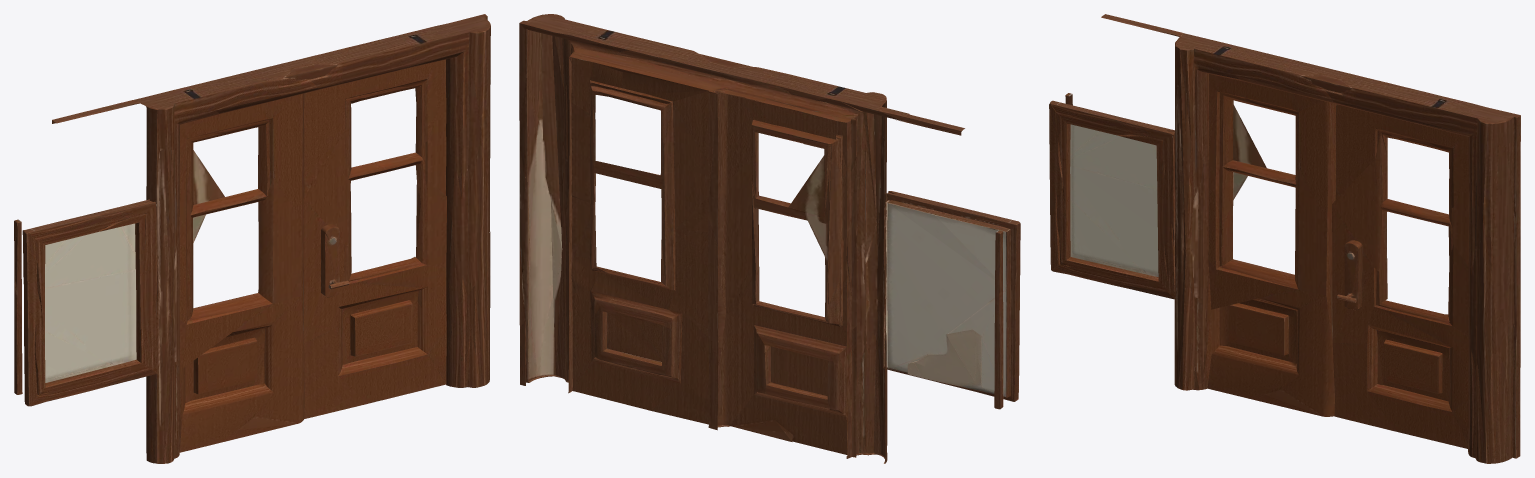
Rendered from hall-entry.glb.
The picture shows the model from 3 angles, left to right: view 1: azimuth 30°, elevation 25°; view 2: azimuth 150°, elevation 25°; view 3: azimuth 330°, elevation 25°; orthographic projection. The views are drawn at different scales.
Size of the model in its own units: 1.9 by 1.36 by 0.1329.
1 material, 1 textured.
